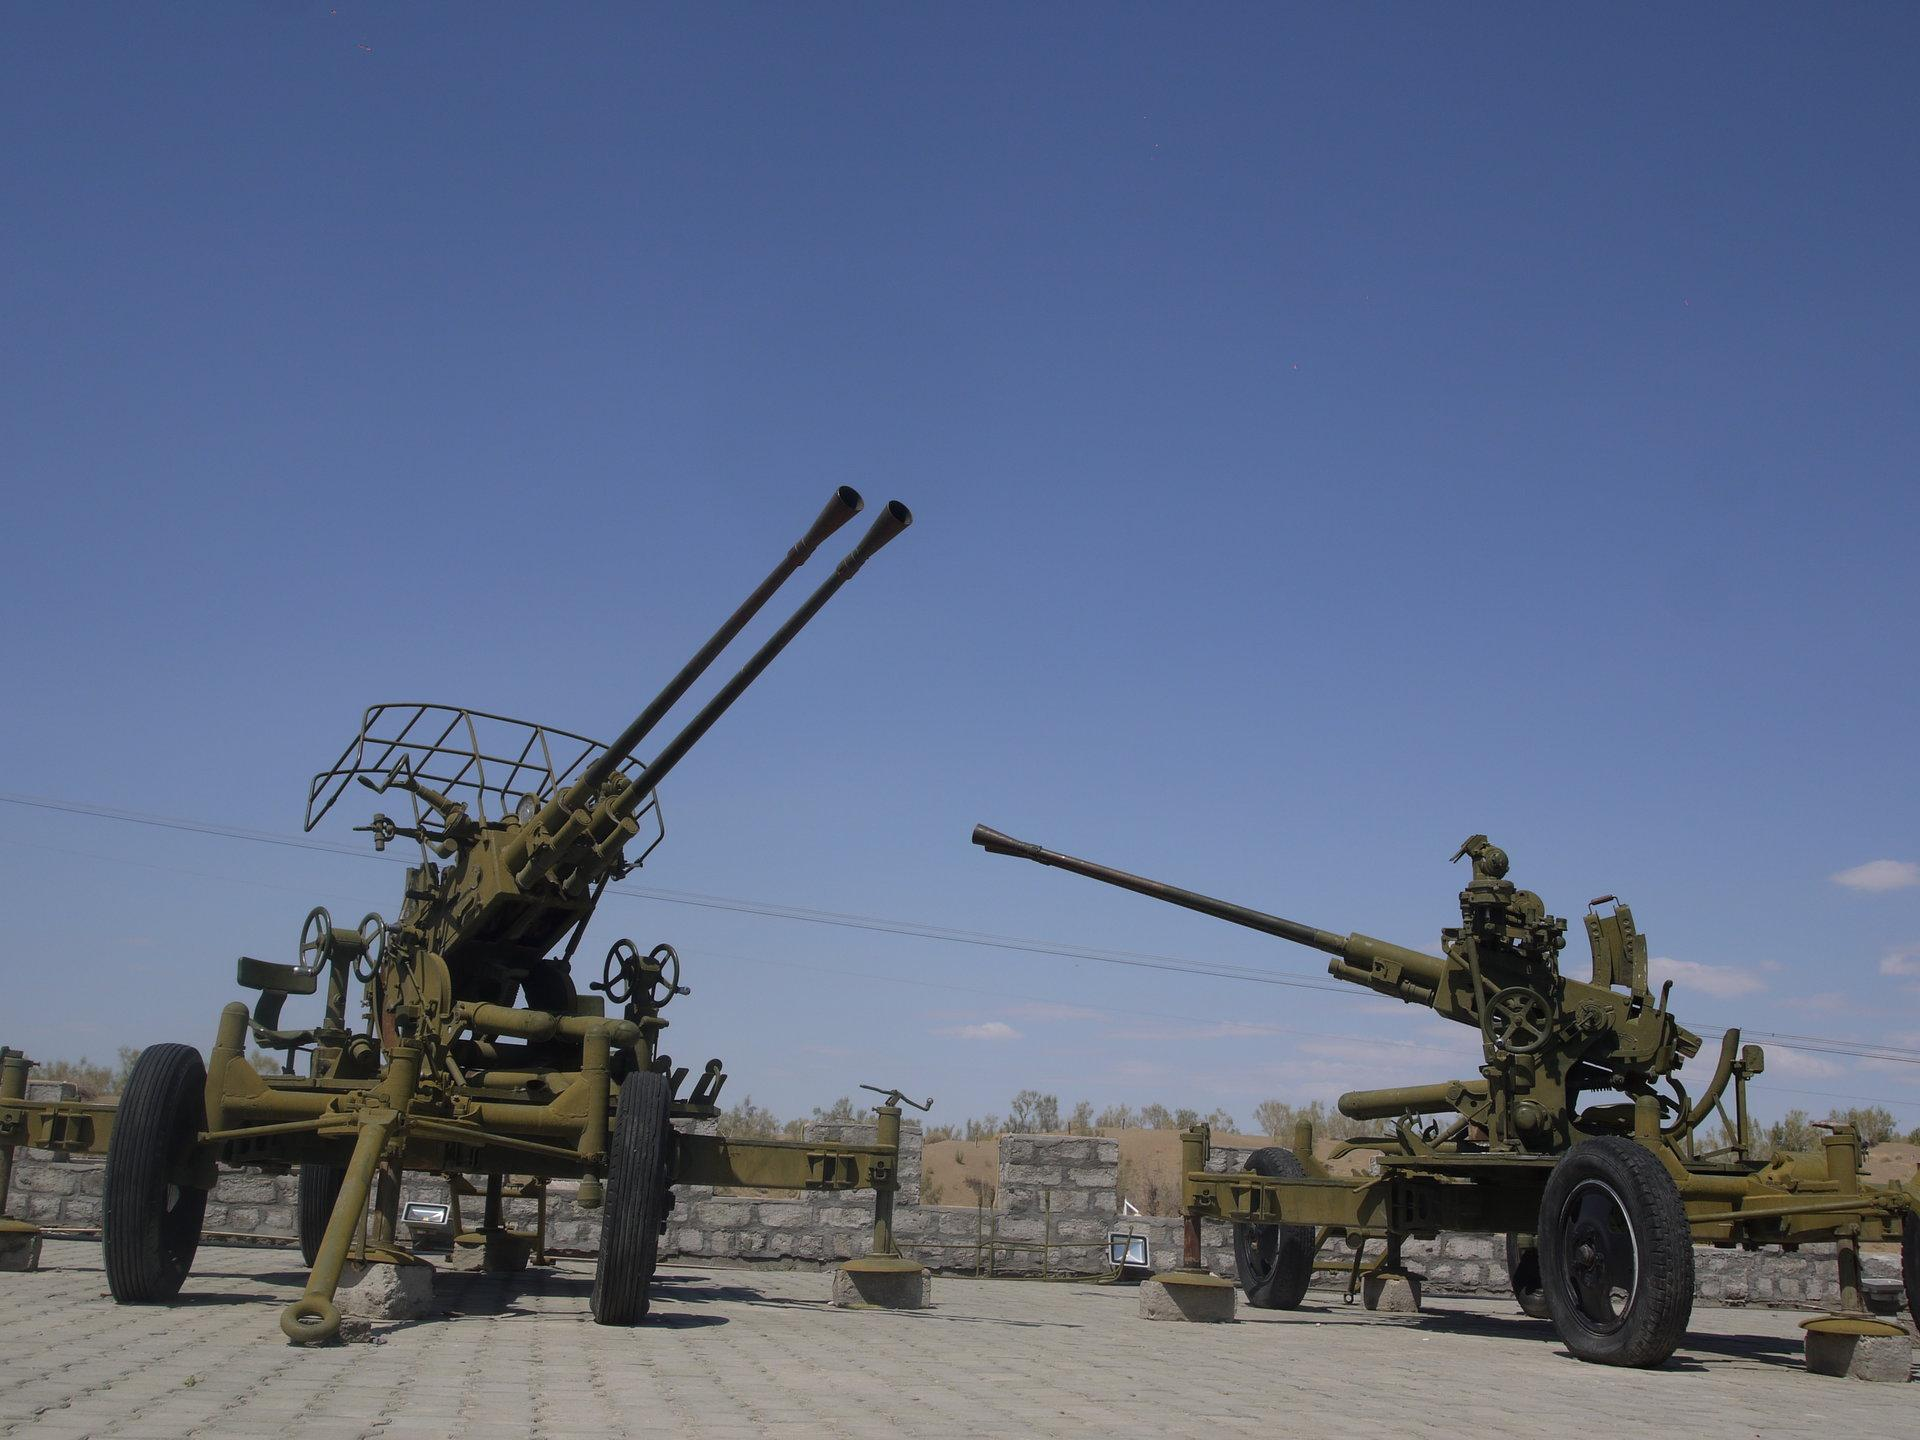MIL_SPG: (97, 487, 912, 1346), (971, 824, 1920, 1379)
